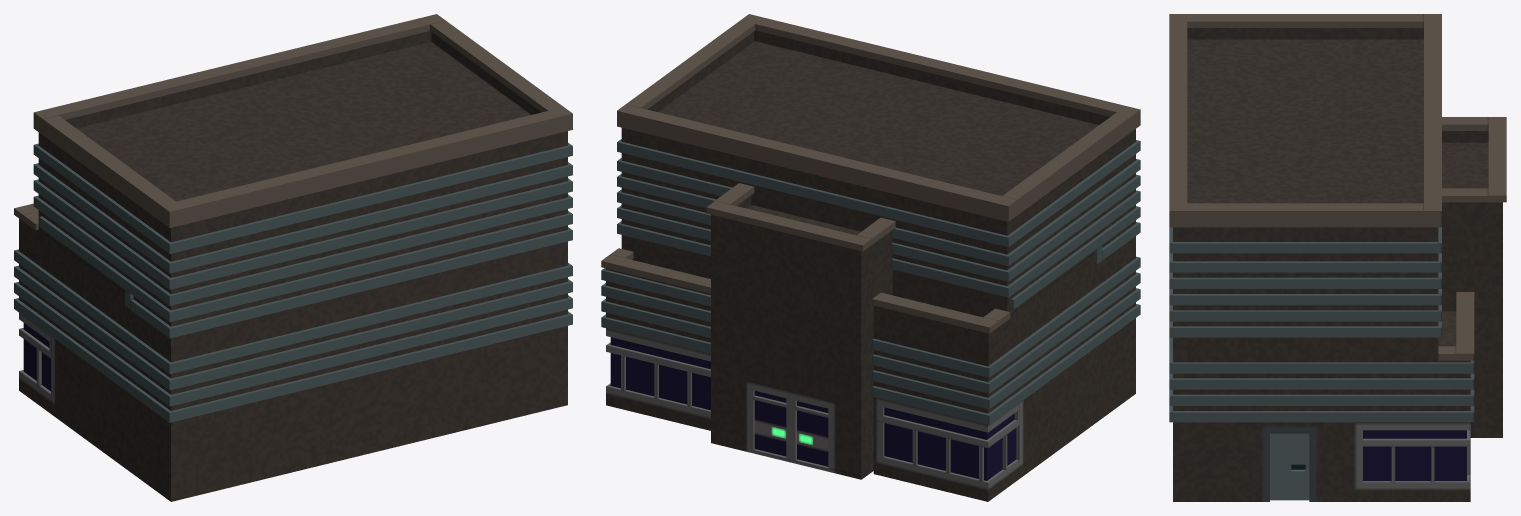
Rendered from arcade_budynek.dae.
The picture shows the model from 3 angles, left to right: view 1: azimuth 30°, elevation 25°; view 2: azimuth 150°, elevation 25°; view 3: azimuth 270°, elevation 25°; orthographic projection. The views are drawn at different scales.
Parts seen in each view (by area): view 1: Content; view 2: Content; view 3: Content.
Part boxes in pixels (box(x1,y1,x2,y2)): Content: box(14, 14, 572, 501); Content: box(601, 14, 1140, 501); Content: box(1169, 14, 1506, 501).
Bounding box in the file's own units: 130 × 90 × 94.
Materials: 1 (1 with a texture image).
